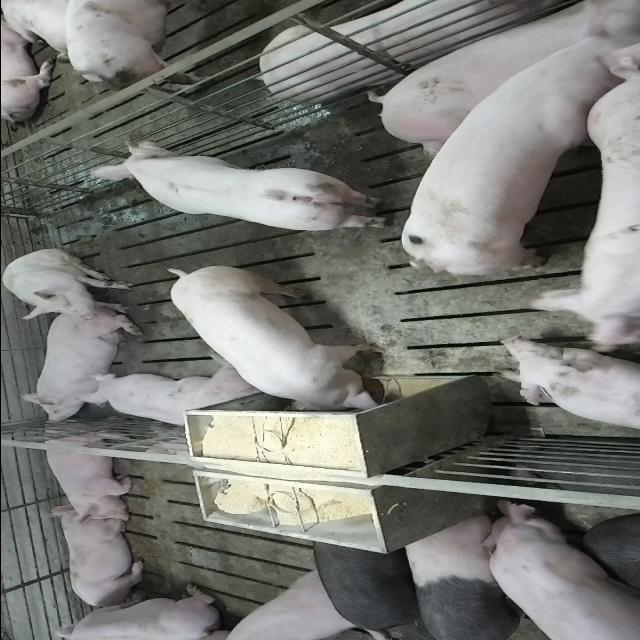Feeding: (165, 270, 391, 422)
Lateral_lying: (256, 1, 584, 102)
Sitting: (2, 248, 136, 320)
Standing: (396, 17, 634, 282), (370, 0, 640, 155), (82, 138, 387, 234), (475, 498, 640, 638), (397, 512, 522, 638), (307, 536, 433, 638)
Sternal_lying: (492, 338, 638, 438), (524, 222, 638, 344), (13, 314, 137, 424), (79, 366, 258, 431), (36, 424, 138, 524), (41, 583, 225, 637), (50, 510, 148, 610)
